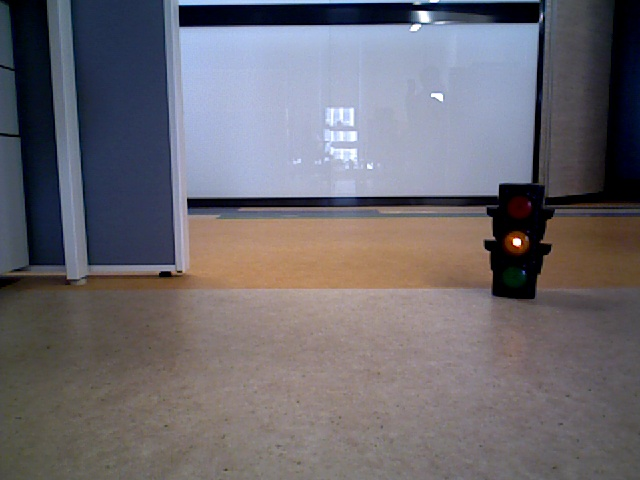yellow: (495, 183, 537, 293)
